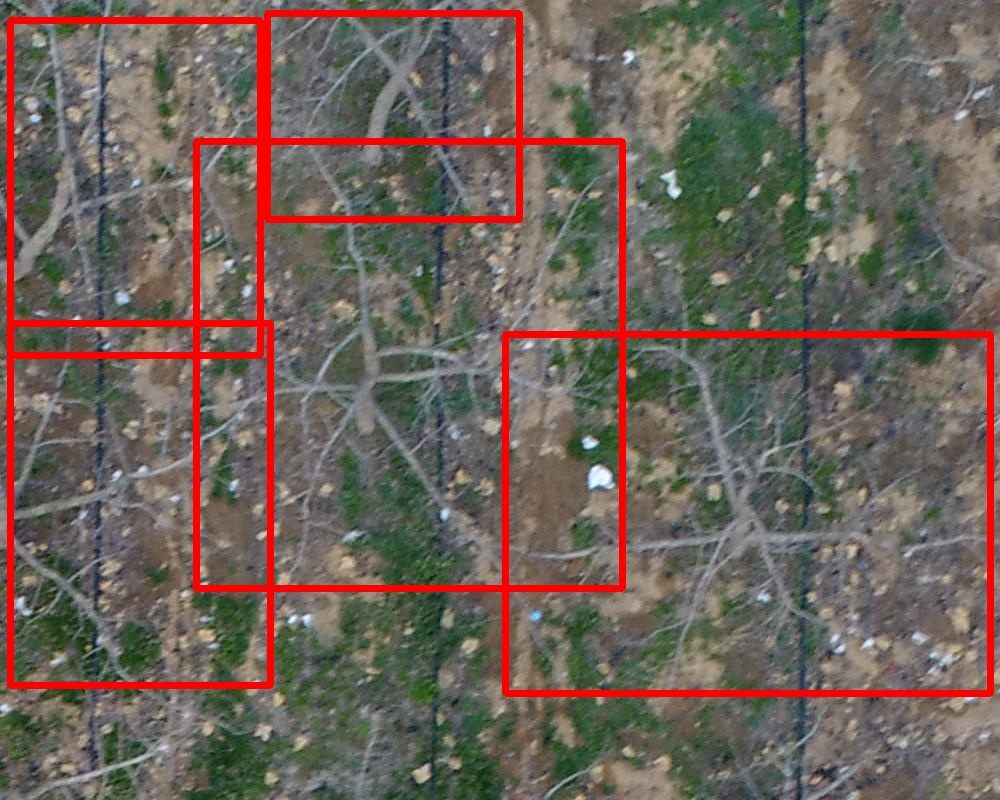apple: (196, 141, 622, 588), (505, 334, 990, 693), (10, 323, 270, 685), (10, 20, 260, 355), (267, 13, 519, 219)
